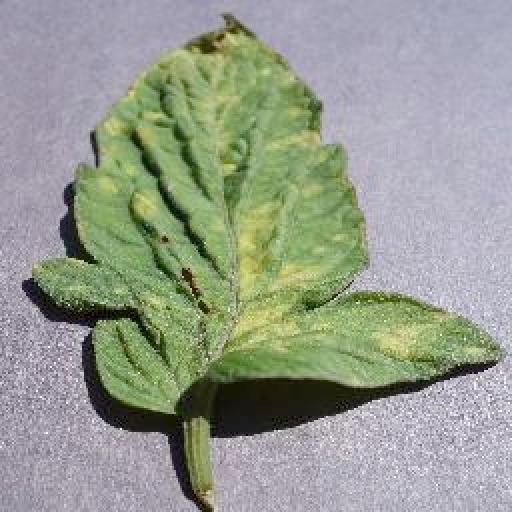disease_tomato: (35, 10, 507, 414)
